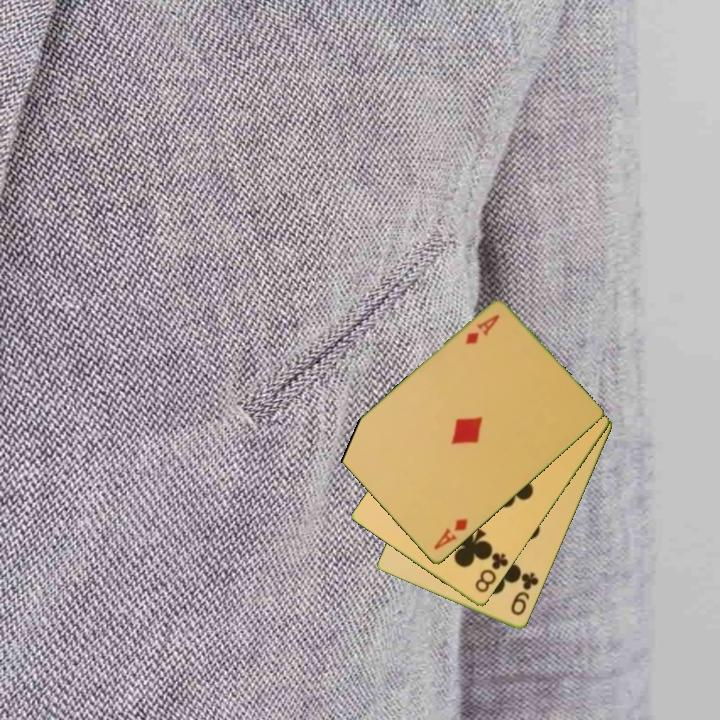8c: (471, 549, 511, 596)
9c: (507, 569, 542, 619)
Ad: (430, 515, 471, 553), (462, 311, 503, 348)
